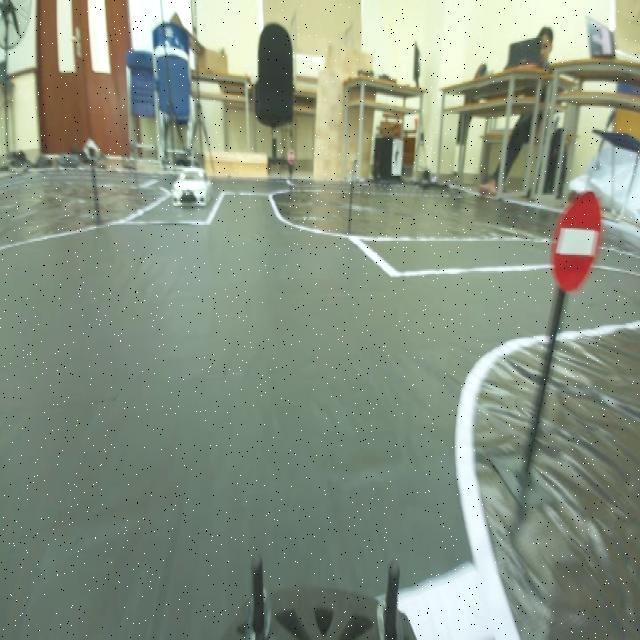no_entry: (552, 192, 611, 299)
